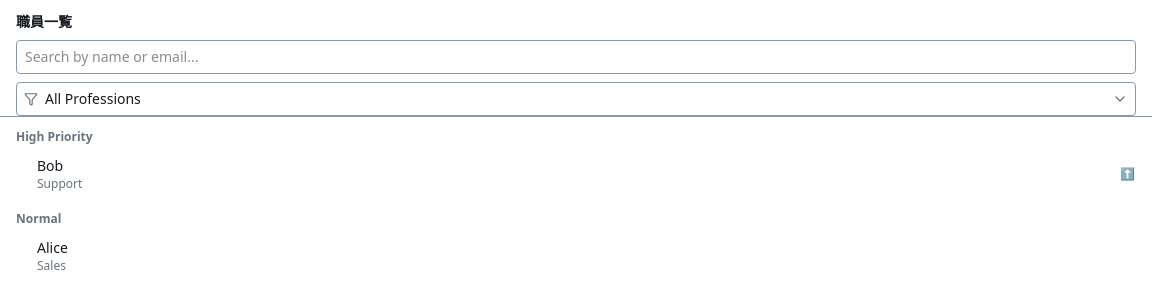
Test case: PersonnelPanel › filters and toggles selection
The image size is (1152, 298).
Click the text "Alice" at [52, 248], box [37,238,68,257]
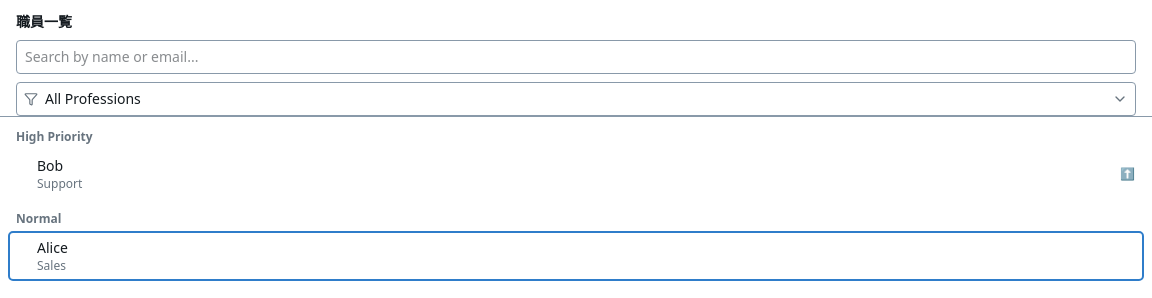
Type "bob" into the field at [576, 57], box [16,40,1136,74]
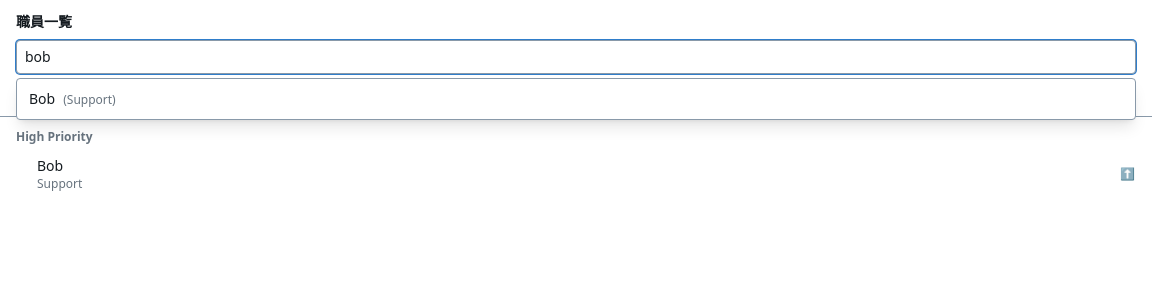
Now the button "Alice" is gone
Now the text "Bob" below "職員一覧" is shown, box [29,89,55,108]
